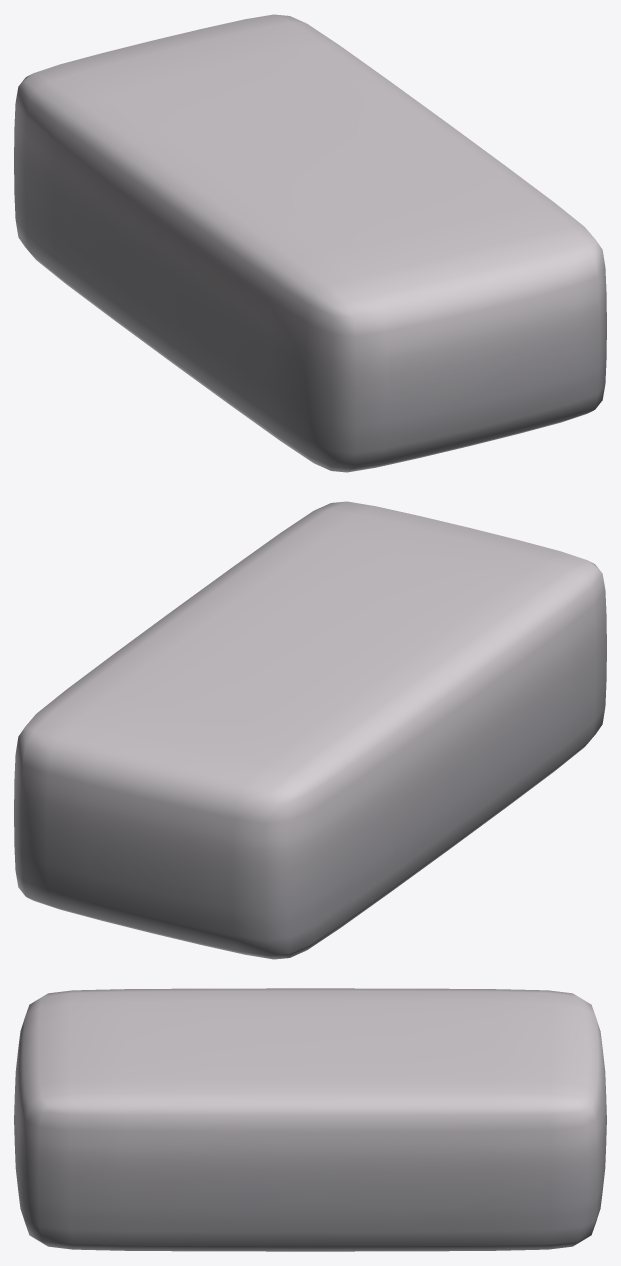
File: SlabShort.glb
The picture shows the model from 3 angles, top to bottom: view 1: azimuth 30°, elevation 25°; view 2: azimuth 150°, elevation 25°; view 3: azimuth 270°, elevation 25°; orthographic projection. The views are drawn at different scales.
Visible parts, largest first — view 1: SlabShort; view 2: SlabShort; view 3: SlabShort.
Part boxes in pixels (x1,y1,x2,y2): SlabShort: [14, 14, 606, 472]; SlabShort: [14, 501, 606, 959]; SlabShort: [14, 988, 606, 1251].
Size of what is drawn, in the model's own units: 0.9919 by 0.5951 by 1.98.
Materials: 1 (1 with a texture image).
